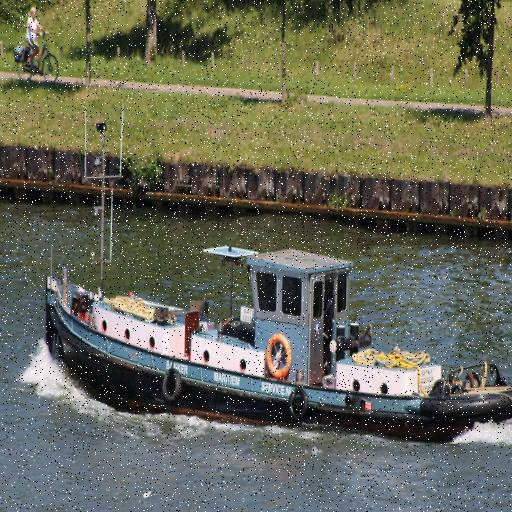tugboat: (42, 211, 512, 455)
